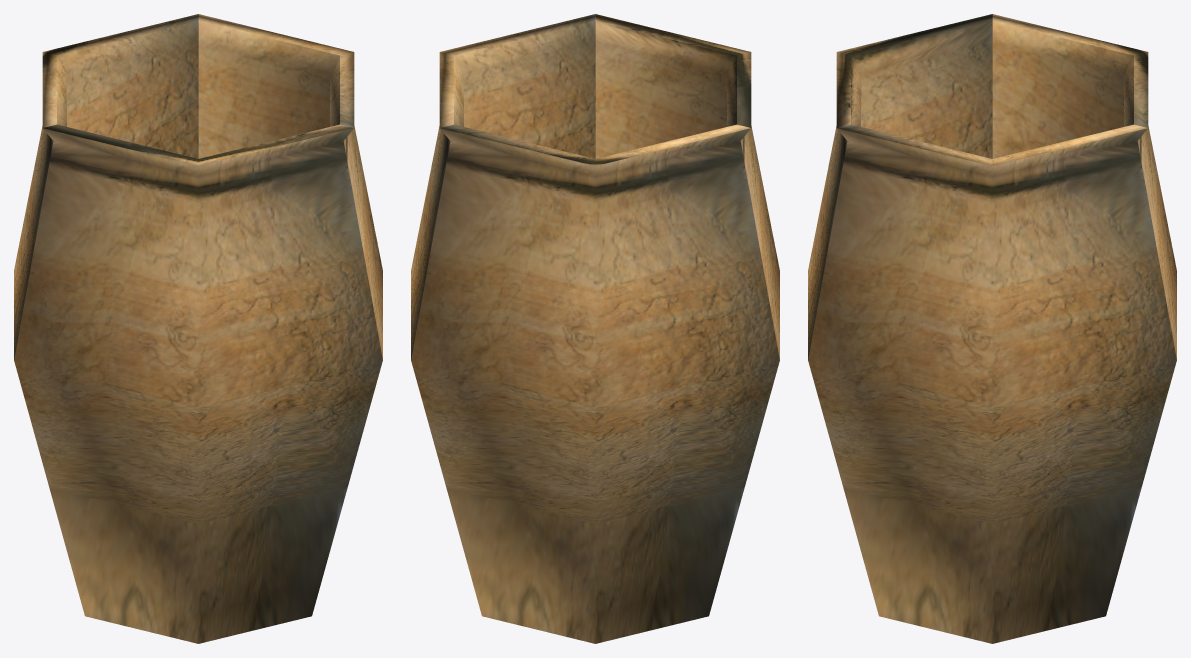
Rendered from Vase.fbx.
The picture shows the model from 3 angles, left to right: view 1: azimuth 30°, elevation 25°; view 2: azimuth 150°, elevation 25°; view 3: azimuth 270°, elevation 25°; orthographic projection.
Parts seen in each view (by area): view 1: Vase; view 2: Vase; view 3: Vase.
Part boxes in pixels (x1=…): Vase: x1=14, y1=14, x2=382, y2=643; Vase: x1=411, y1=14, x2=779, y2=643; Vase: x1=808, y1=14, x2=1176, y2=643.
Size of the model in its own units: 22.55 by 29.12 by 19.53.
Materials: 1 (1 with a texture image).
